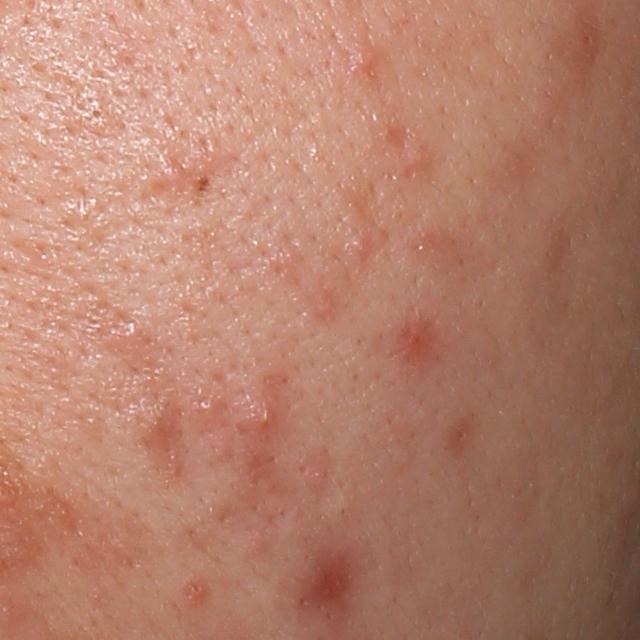atrophic_scar: (141, 152, 240, 225), (382, 121, 415, 149)
papule: (280, 545, 365, 626), (237, 391, 287, 449), (130, 395, 177, 451), (342, 40, 381, 77), (184, 577, 210, 602)
